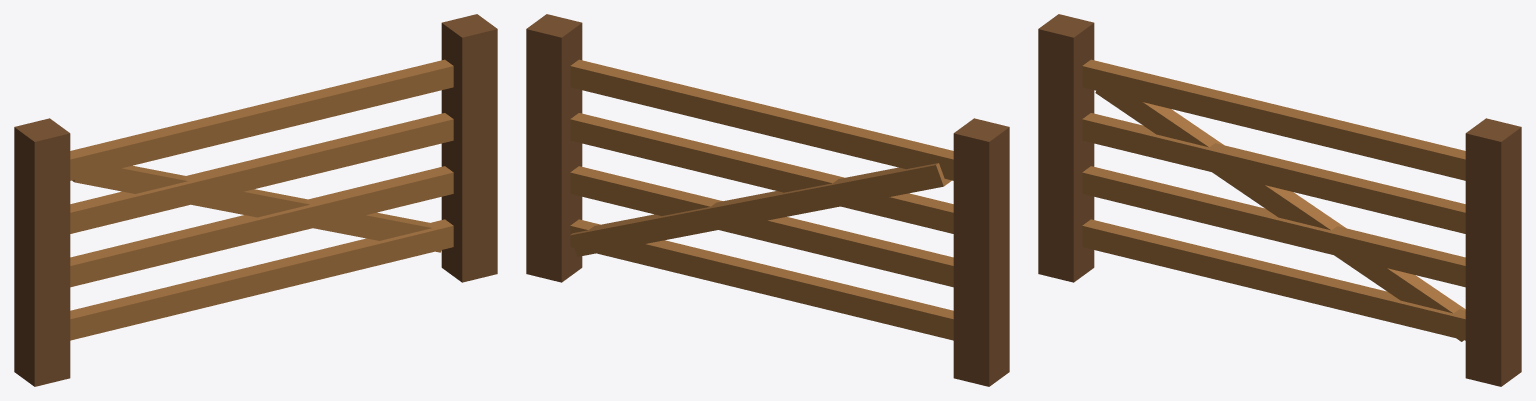
File: porteira.glb
3 views of the same model, side by side, from view 1: azimuth 30°, elevation 25°; view 2: azimuth 150°, elevation 25°; view 3: azimuth 330°, elevation 25° (orthographic).
Parts seen in each view (by area): view 1: corpo; view 2: corpo; view 3: corpo.
Boxes of the visible parts, x1=… form: corpo: x1=14, y1=14, x2=497, y2=386; corpo: x1=526, y1=14, x2=1009, y2=386; corpo: x1=1038, y1=14, x2=1521, y2=386.
Bounding box in the file's own units: 0.91 × 0.46 × 0.07.
